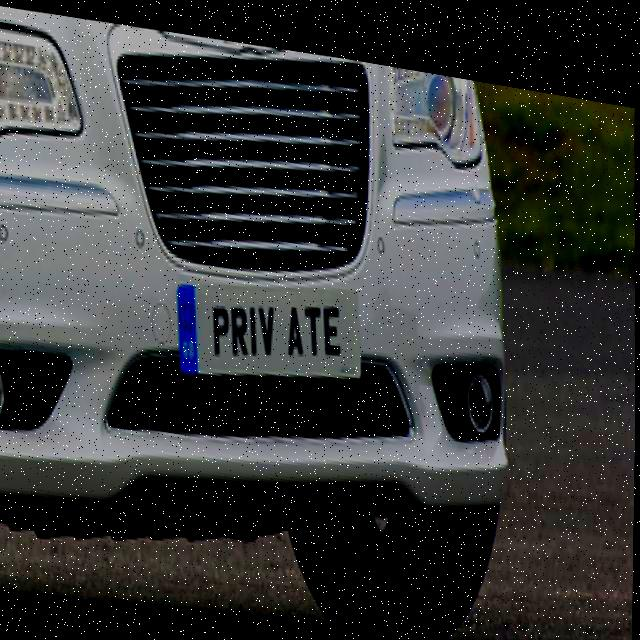license_plate: (175, 270, 364, 375)
